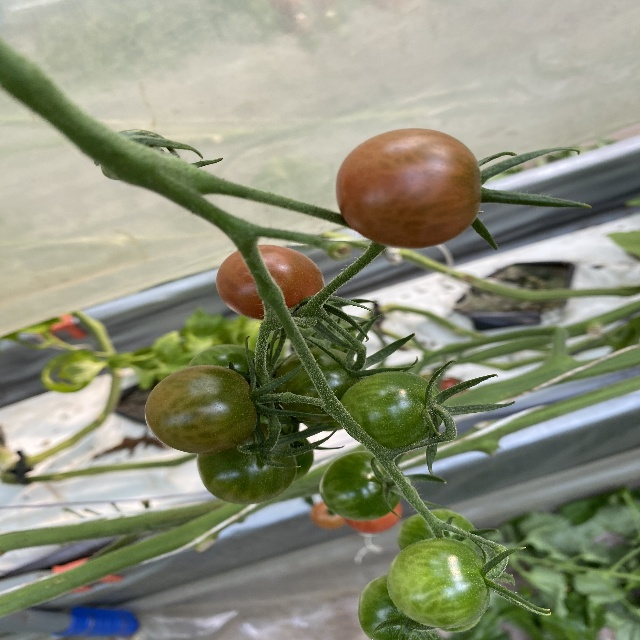l_fully_ripened: (216, 244, 326, 321)
l_green: (144, 365, 258, 453), (385, 537, 490, 628), (339, 370, 446, 449), (197, 422, 297, 505), (277, 349, 366, 430), (319, 451, 403, 521), (358, 574, 440, 640), (188, 344, 269, 402), (397, 507, 476, 551), (283, 430, 315, 481)
l_half_ripened: (334, 127, 482, 250)
